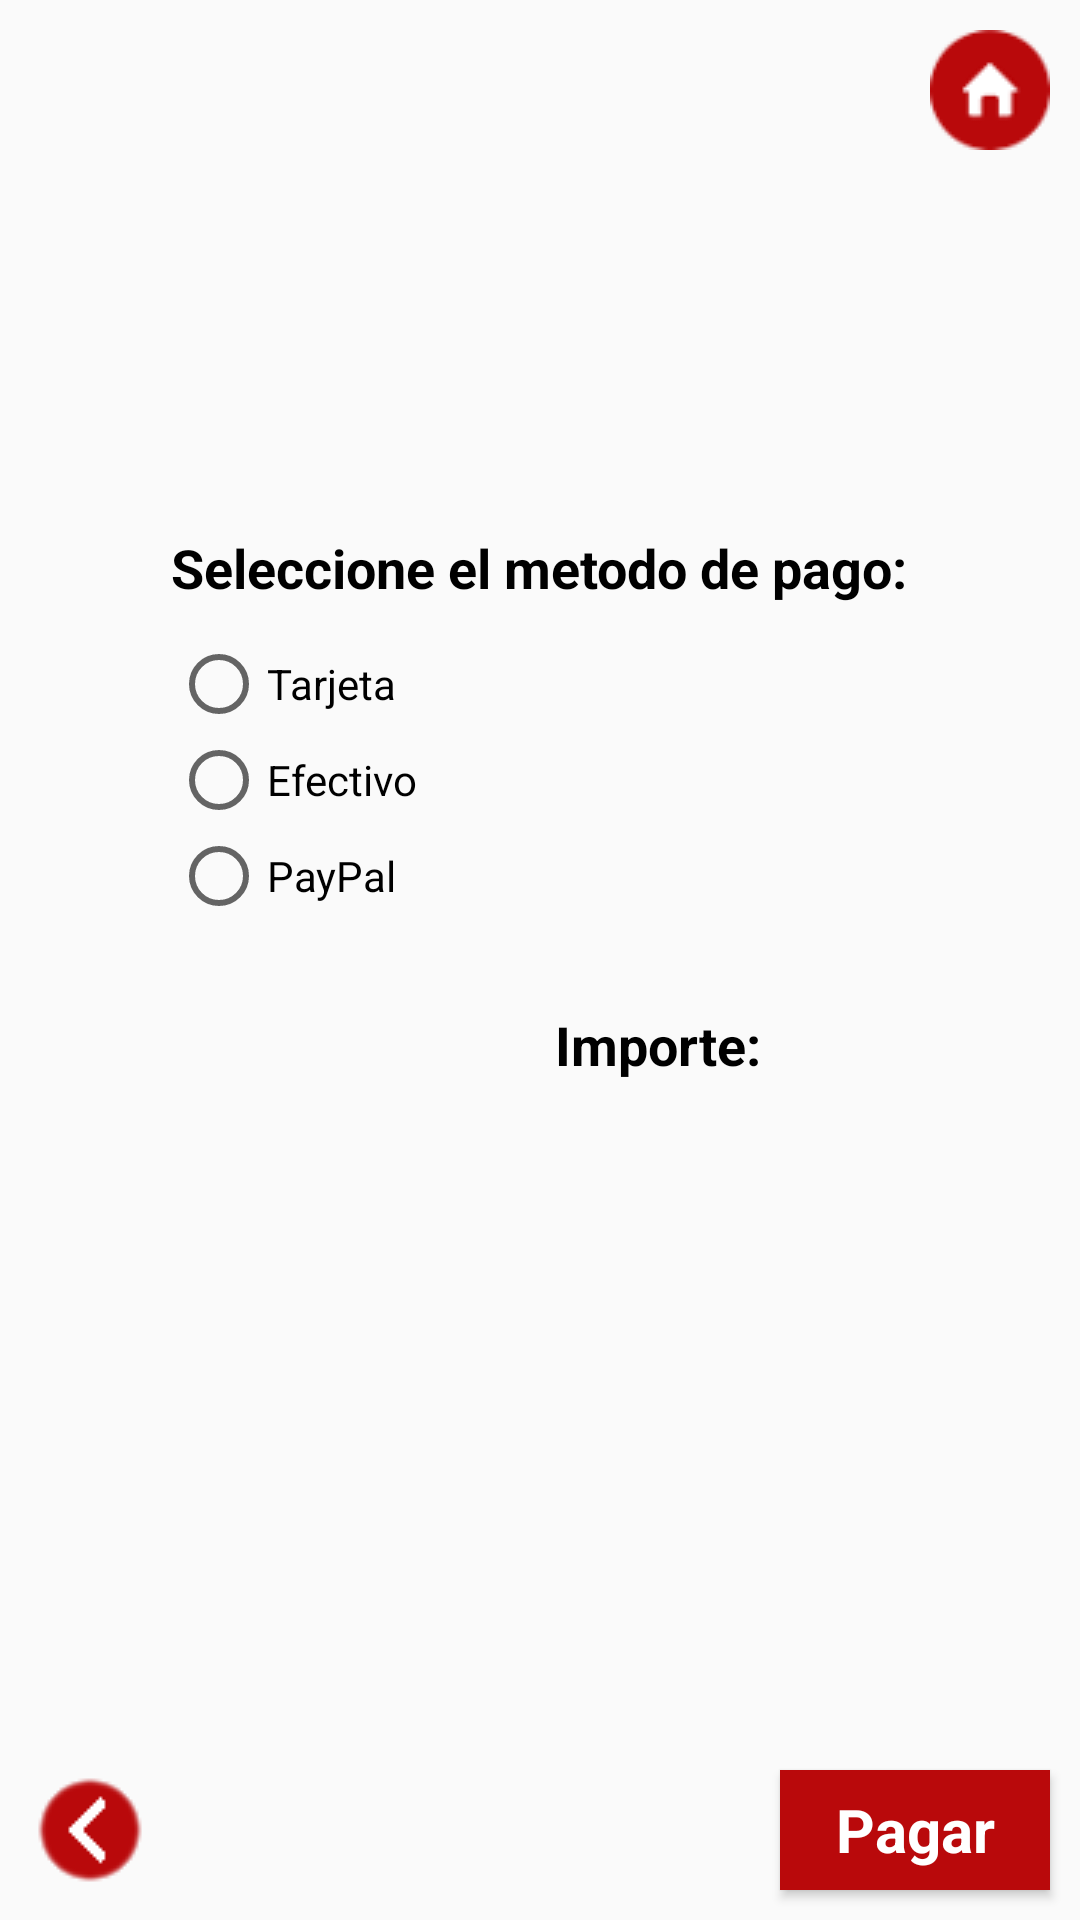

Icons on this 1080x1920 Android screen, each with the point to tap as [x,y]:
backarrow: [90,1830]
home: [990,90]
